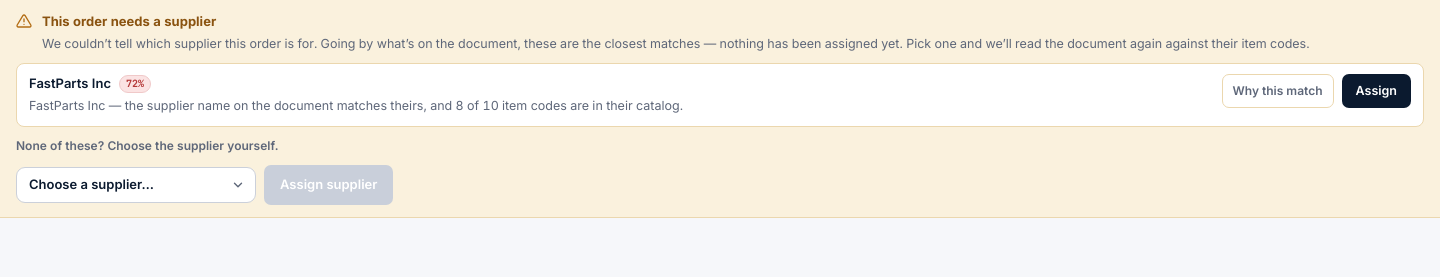
it: AssignSupplierBanner — ranked supplier suggestions › surfaces the backend's own words when an accepted suggestion is rejected (400)
What coordinates should you click on to do the following:
click the button with aria-label "assign FastParts Inc"
I would click on:
 (1376, 91)
Its box is [1342,74,1411,108].
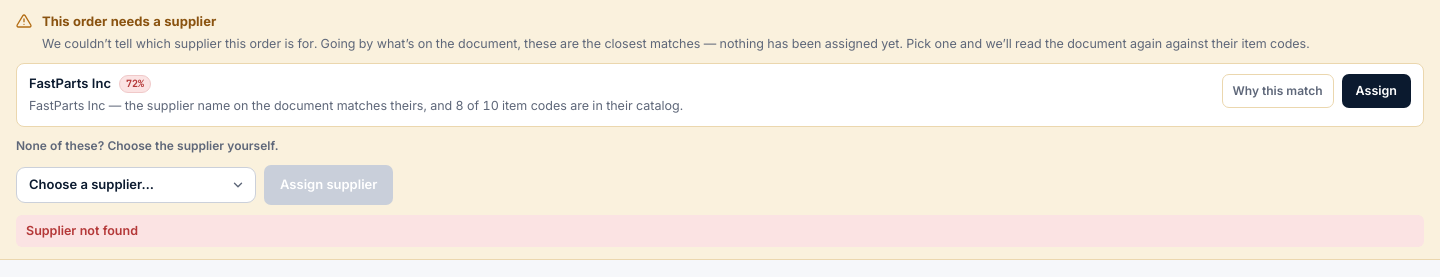
Expected: the text "Supplier not found" is shown, [16,214,1424,247]
